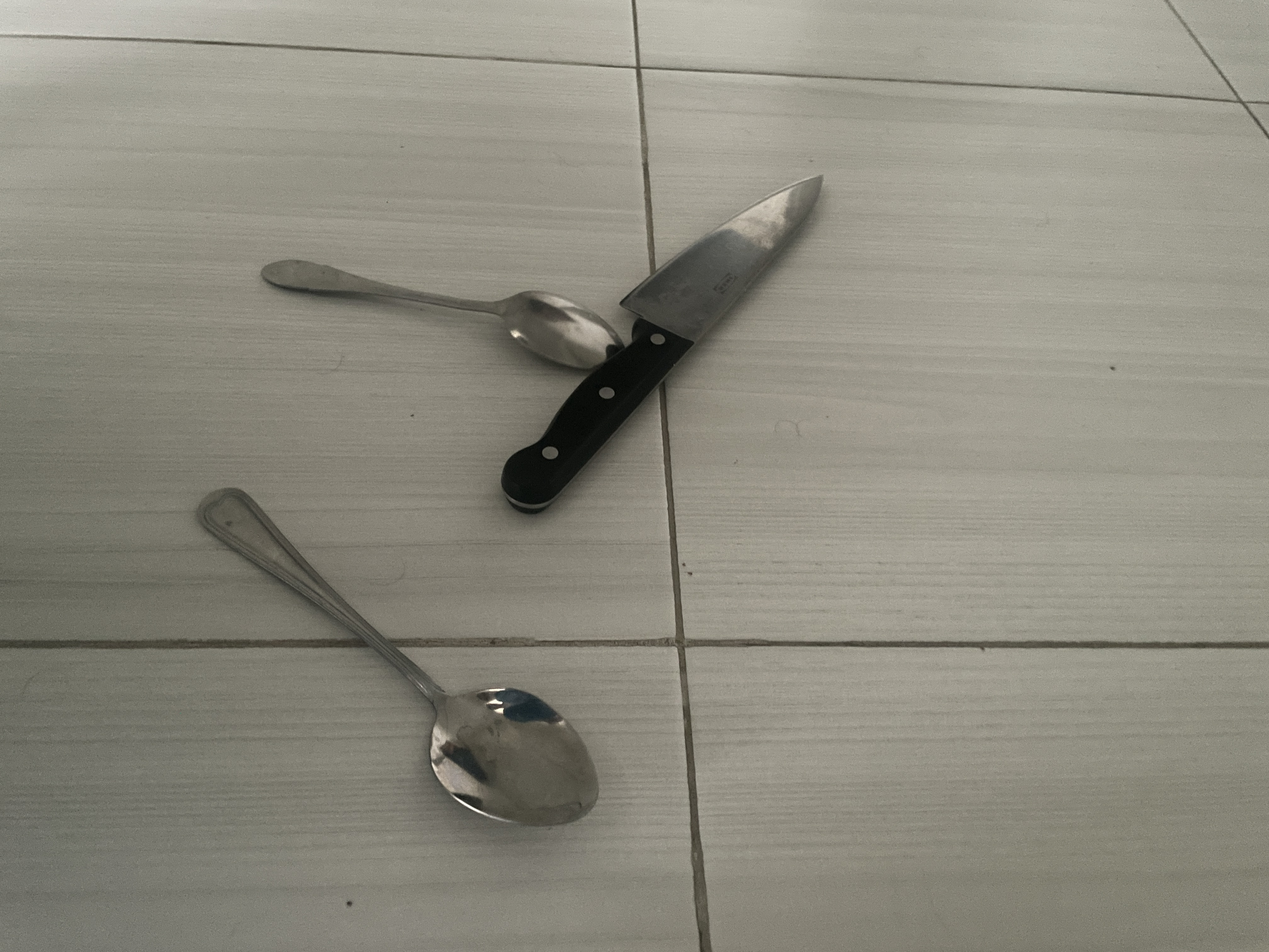knife: (501, 176, 825, 511)
spoon: (195, 488, 600, 829), (261, 258, 628, 371)
